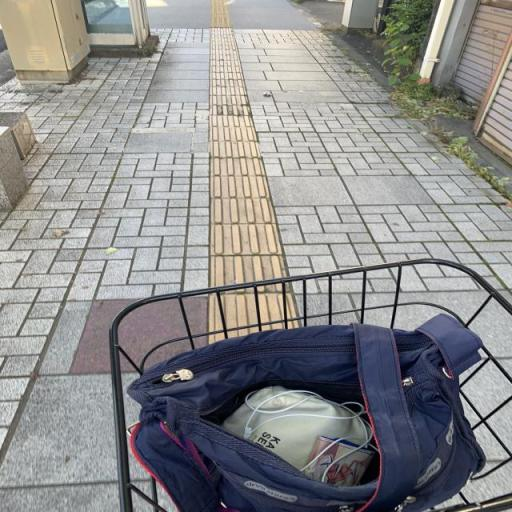line: (208, 224, 282, 254), (210, 197, 277, 224), (209, 176, 270, 199), (210, 157, 266, 176), (209, 141, 261, 158), (210, 126, 257, 141), (209, 114, 254, 127)
